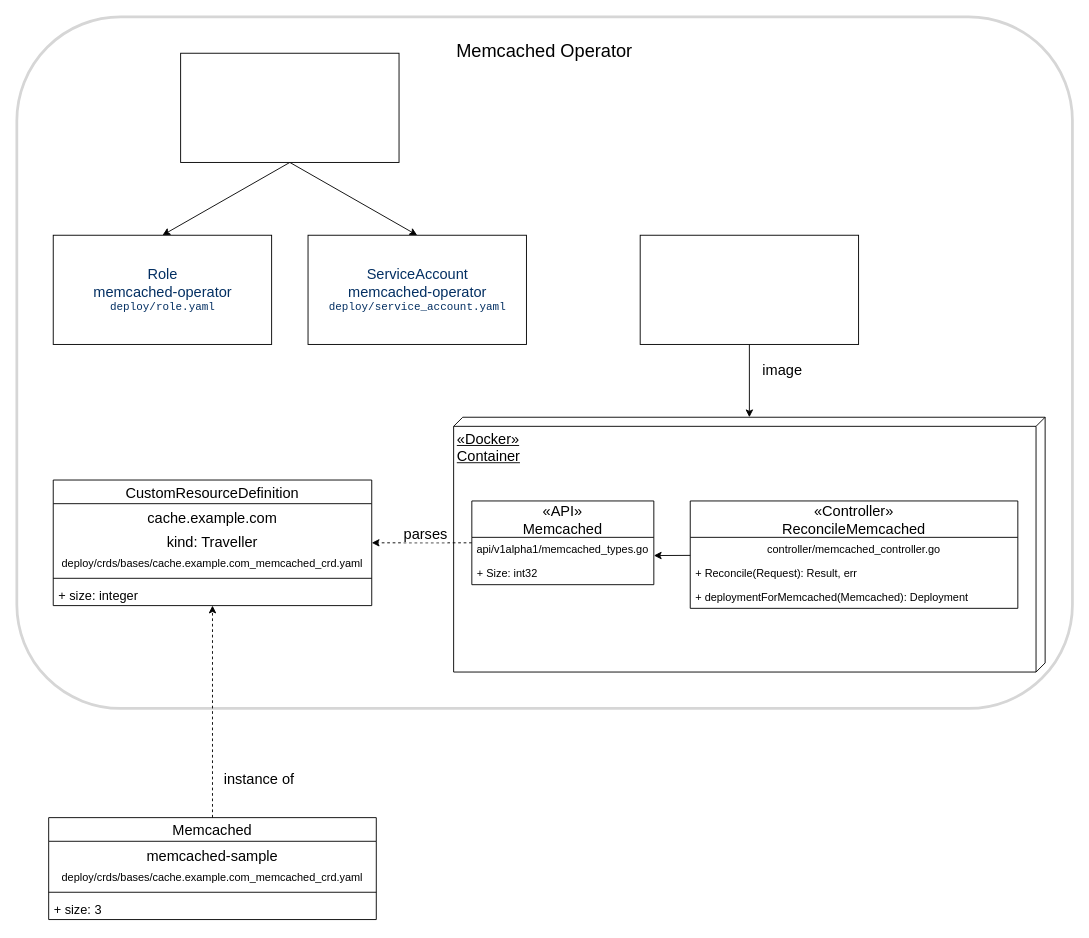
Some shapes in this 1089 by 938 pixel diagram are drawn without their labels. Each missing label, with the centre of its shape:
Deployment memcached-operator deploy/operator.yaml: (749,289)
RoleBinding memcached-operator deploy/role_binding.yaml: (289,107)
